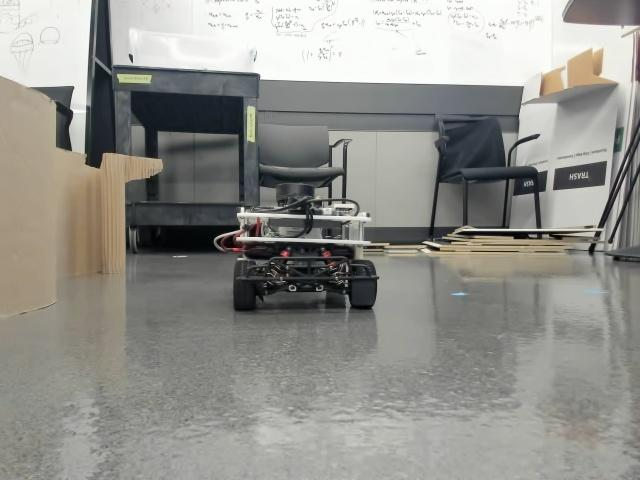Car: (235, 182, 376, 308)
